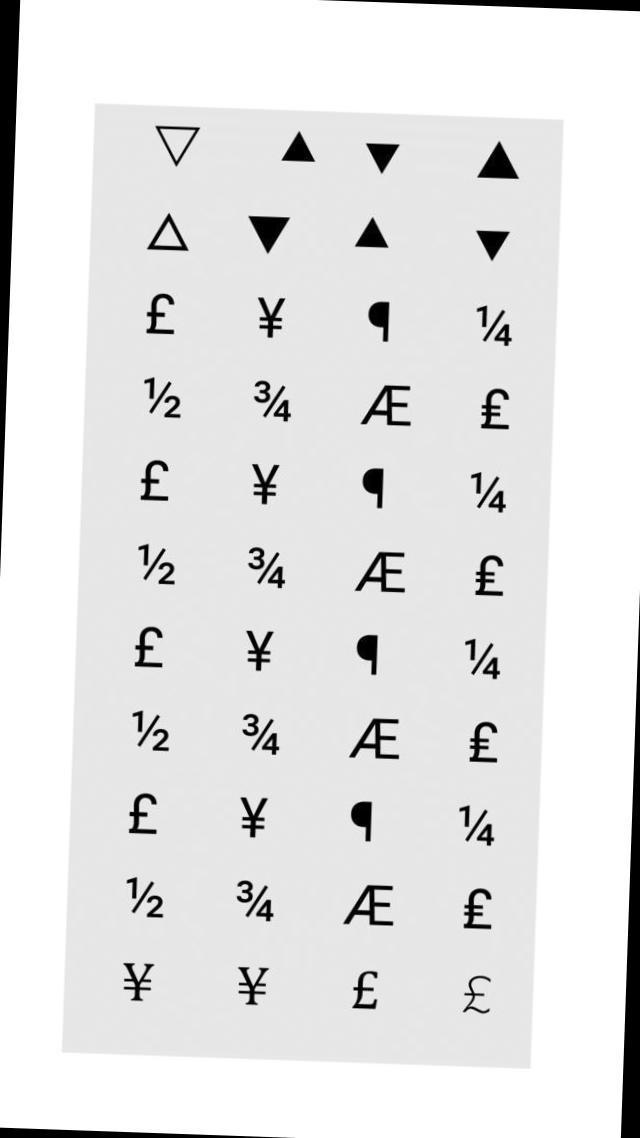ASCII: (352, 375, 422, 434), (347, 708, 405, 770), (346, 546, 410, 598), (340, 878, 400, 931), (242, 203, 292, 264), (242, 535, 292, 596), (134, 536, 181, 600), (140, 369, 187, 432), (237, 704, 286, 764), (248, 372, 296, 433), (128, 701, 176, 759), (472, 296, 518, 356), (232, 870, 278, 930), (150, 119, 201, 172), (466, 464, 512, 522), (123, 867, 169, 925), (450, 966, 500, 1019), (454, 799, 500, 856), (461, 632, 506, 690), (140, 288, 182, 350), (144, 210, 192, 263), (118, 952, 159, 1014), (233, 956, 274, 1018), (136, 449, 176, 512), (457, 876, 498, 937), (476, 136, 524, 188), (130, 618, 170, 679), (474, 381, 514, 442), (463, 714, 503, 775), (469, 548, 509, 608), (245, 453, 284, 514), (125, 784, 164, 844), (239, 623, 278, 681), (348, 962, 386, 1021), (251, 288, 290, 345), (234, 787, 272, 844), (472, 221, 514, 271), (362, 131, 404, 180), (352, 215, 392, 263), (278, 127, 318, 174), (356, 460, 388, 516), (362, 293, 395, 347), (350, 628, 382, 682), (344, 791, 376, 844)
